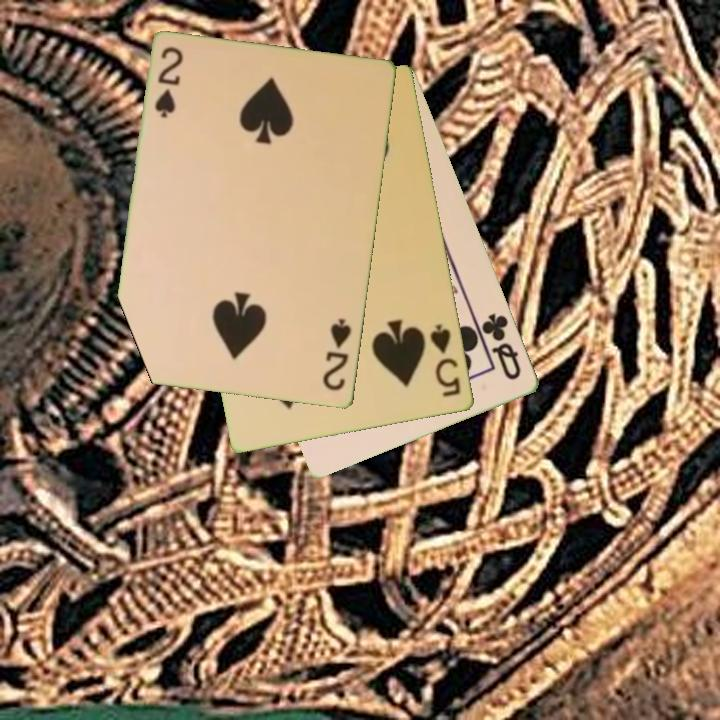2s: (319, 315, 355, 394), (151, 43, 186, 121)
5s: (427, 321, 464, 400)
Qc: (478, 309, 525, 384)
